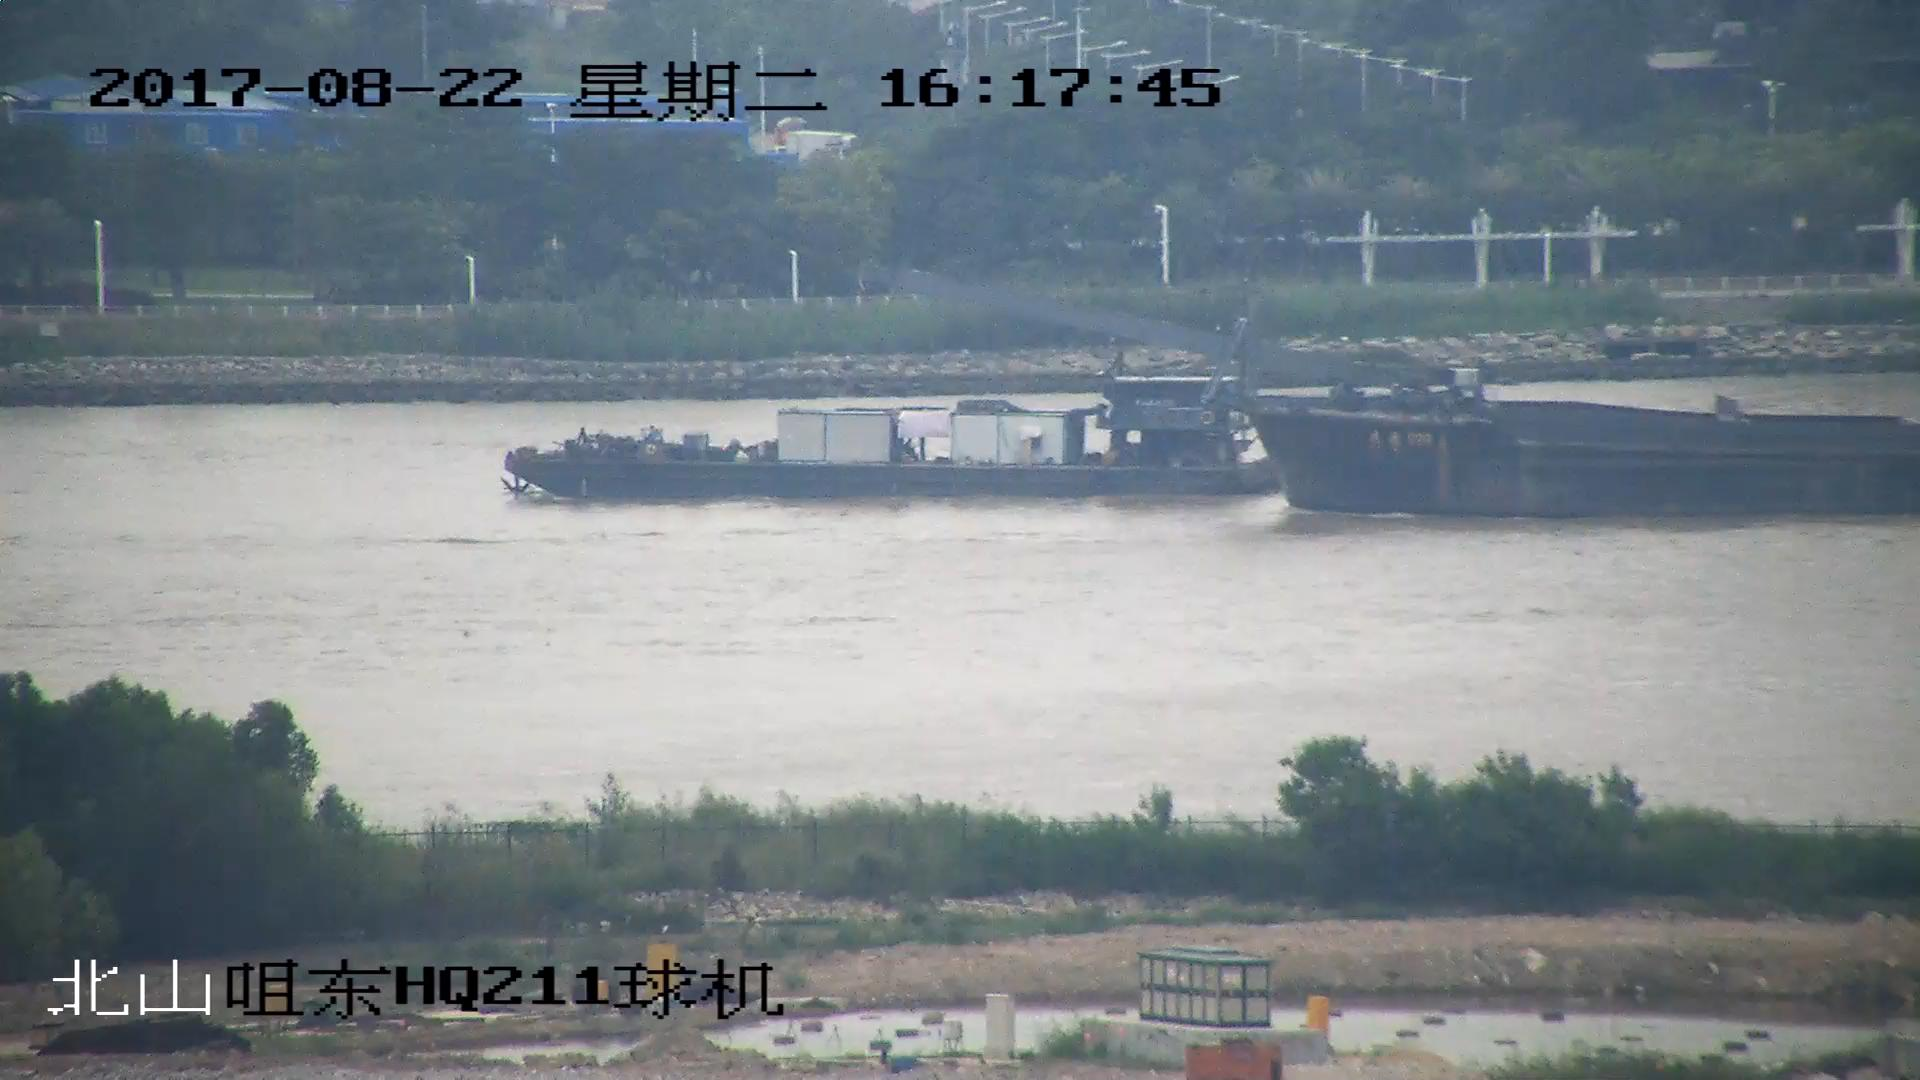bulk cargo carrier: (853, 258, 1920, 522), (502, 361, 1263, 501)
